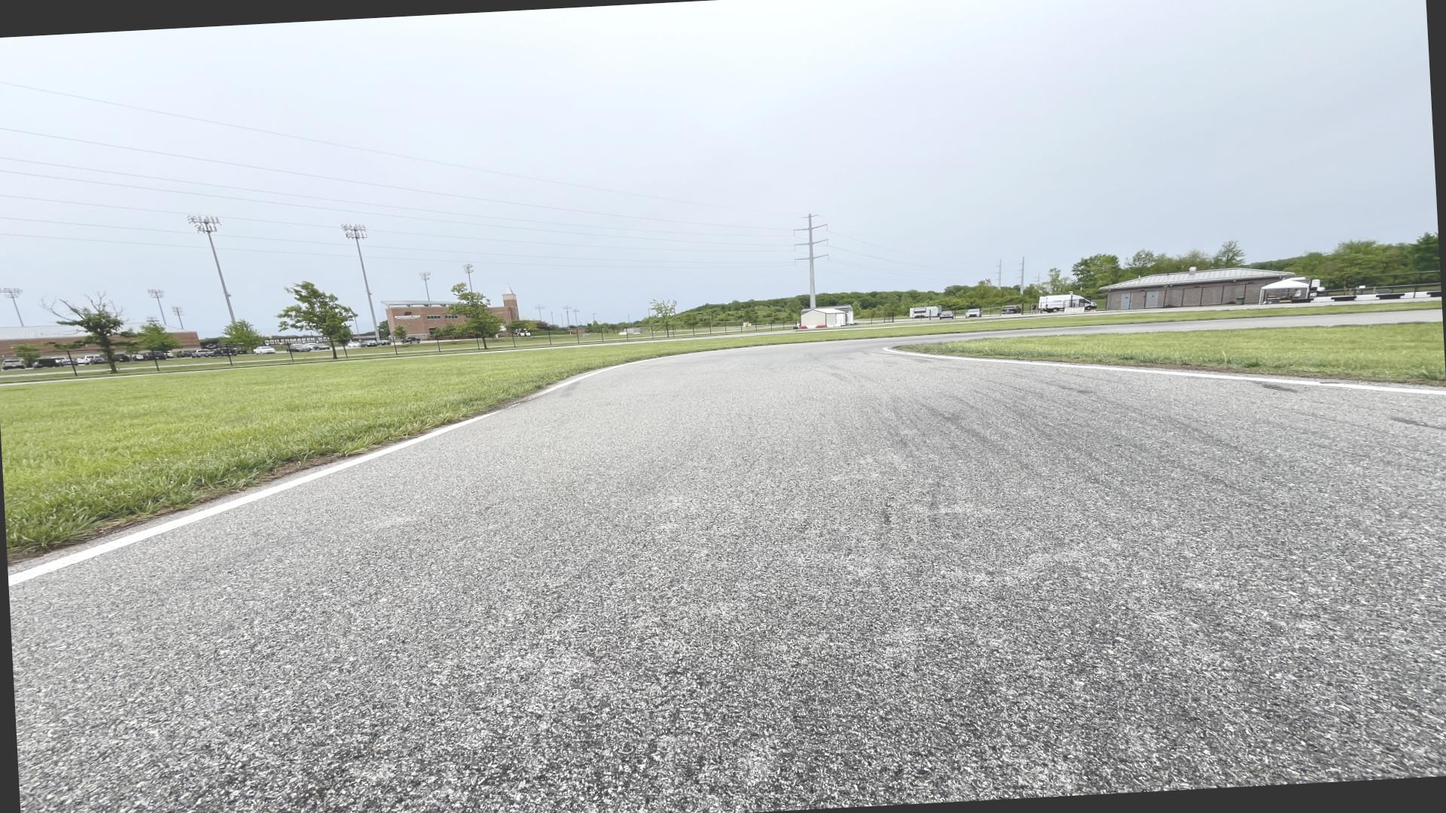white-line: (8, 404, 520, 586), (532, 325, 1099, 398), (883, 347, 1445, 397)
